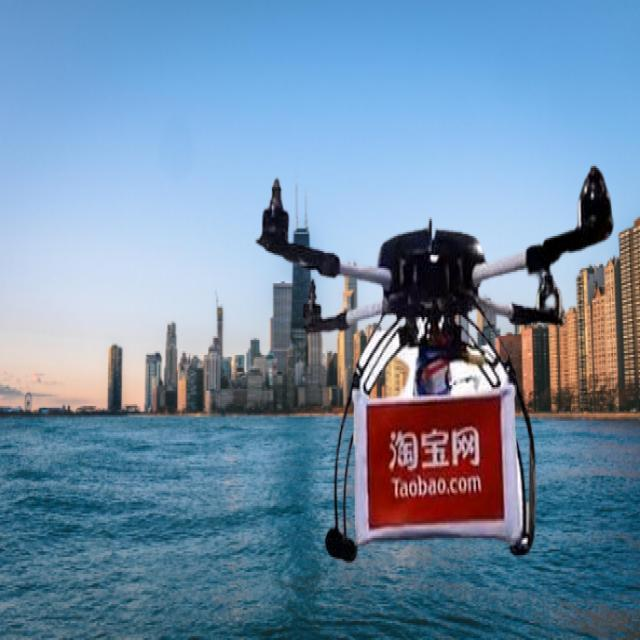drones: (242, 142, 618, 568)
